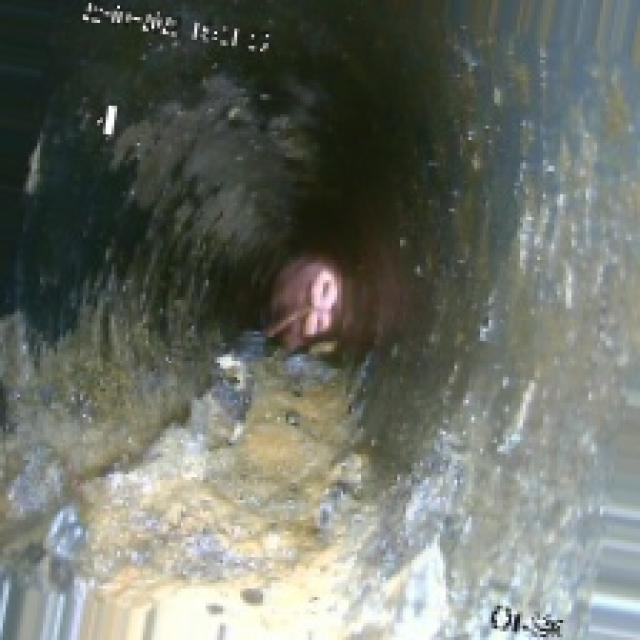sluge accumulation: (83, 337, 457, 629)
